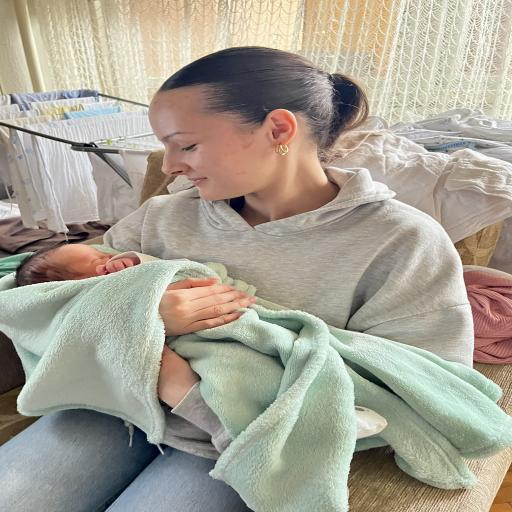marija: (148, 88, 283, 199)
